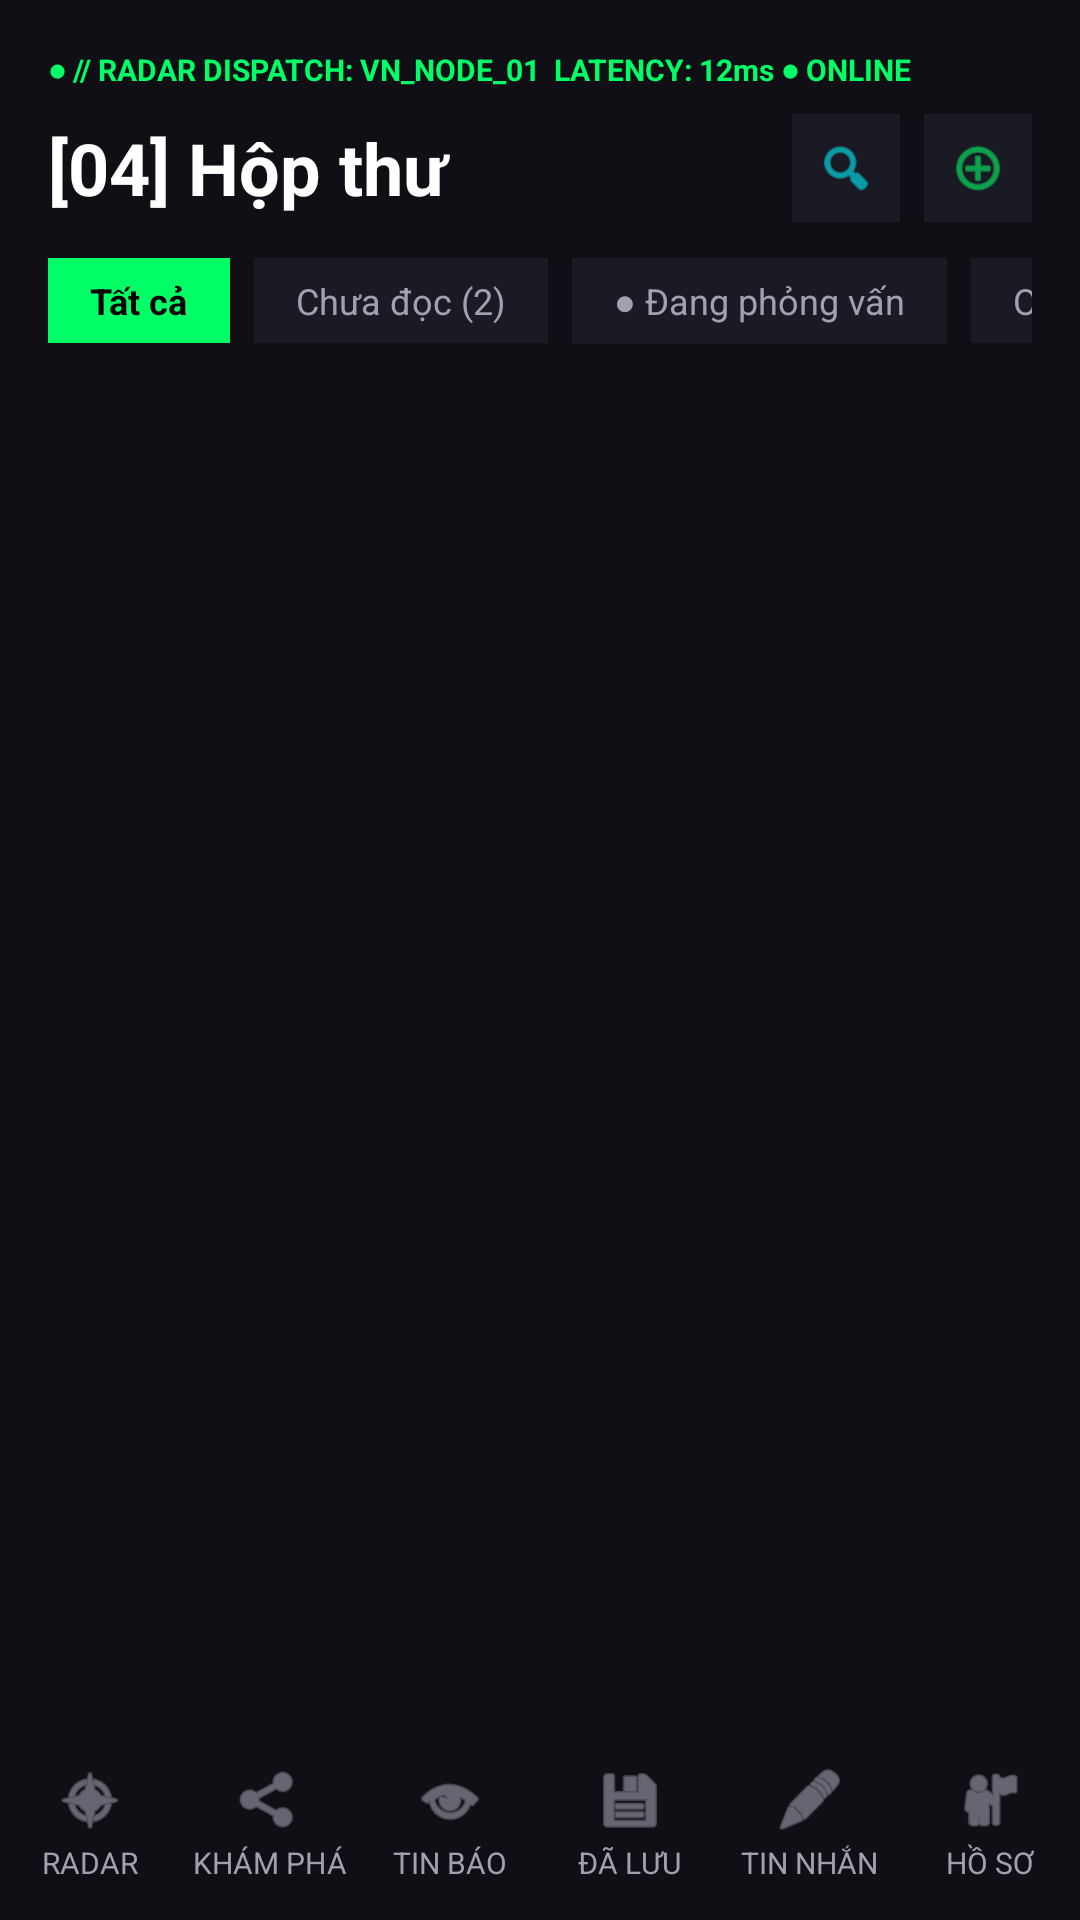

Icon bounding boxes for this 1080 × 1920 phone screenshot, format bbox=[x1, y1, x2, y2]:
add: bbox=[955, 146, 1001, 191]
edit: bbox=[779, 1769, 840, 1830]
share: bbox=[239, 1772, 293, 1828]
view: bbox=[421, 1784, 479, 1820]
